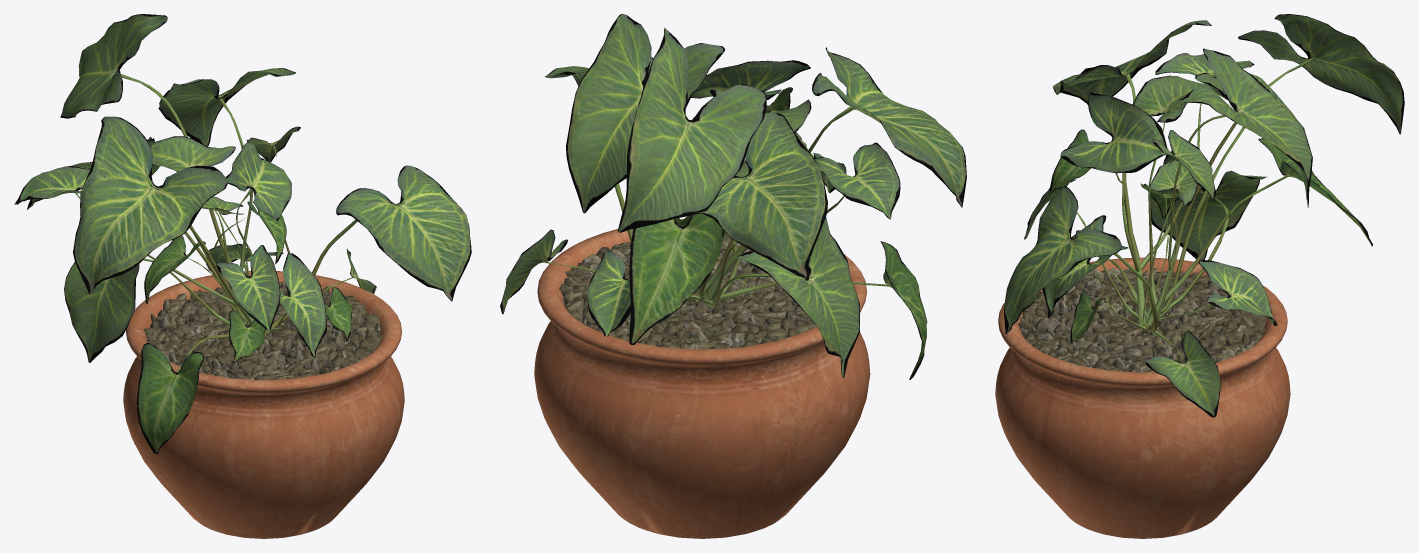
The model's file is potted_plant_02.glb.
3 renders of one model, left to right at view 1: azimuth 30°, elevation 25°; view 2: azimuth 150°, elevation 25°; view 3: azimuth 270°, elevation 25°, orthographic. The views are drawn at different scales.
Visible parts, largest first — view 1: potted_plant_02_leaves, potted_plant_02_pot, potted_plant_02_dirt; view 2: potted_plant_02_leaves, potted_plant_02_pot, potted_plant_02_dirt; view 3: potted_plant_02_leaves, potted_plant_02_pot, potted_plant_02_dirt.
Boxes of the visible parts, x1,y1,x2,y2 form: potted_plant_02_leaves: (14, 14, 471, 453); potted_plant_02_pot: (123, 271, 404, 538); potted_plant_02_dirt: (143, 282, 383, 380); potted_plant_02_leaves: (500, 14, 966, 379); potted_plant_02_pot: (534, 219, 870, 538); potted_plant_02_dirt: (559, 233, 816, 349); potted_plant_02_leaves: (1004, 14, 1404, 417); potted_plant_02_pot: (995, 257, 1290, 538); potted_plant_02_dirt: (1018, 267, 1266, 372).
Size of the model in its own units: 0.7009 by 0.8412 by 0.6574.
Materials: 2 (2 with a texture image).
